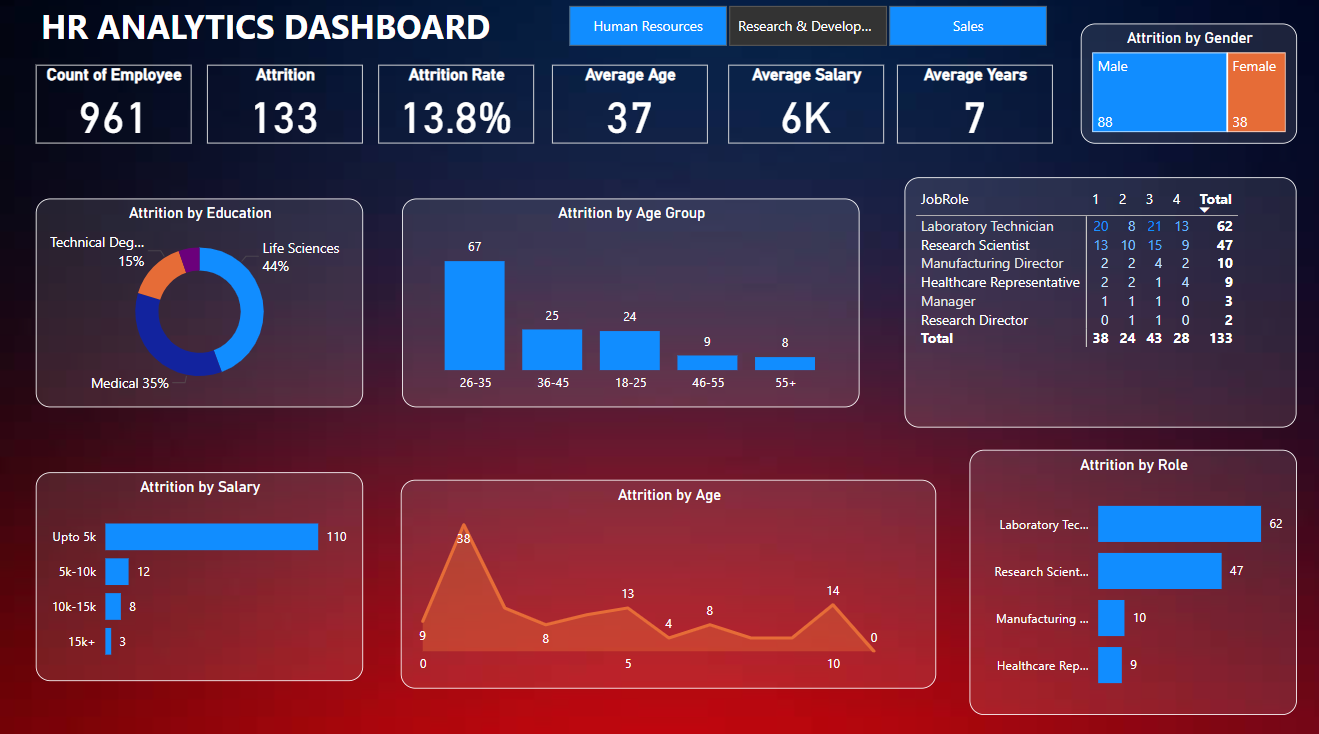

This screenshot's page, from the dashboard's own definition file:
{"tool":"powerbi","page":{"name":"Page 1","canvas":[1280,720],"ordinal":0},"visuals":[{"type":"card","title":"Count of Employee","fields":{"Values":["CountNonNull(HR_Analytics.EmpID)"]},"box":[37.4,71.1,150,75.7],"z":0},{"type":"card","title":"Attrition","fields":{"Values":["Sum(HR_Analytics.AttritionCount)"]},"box":[203.1,71.1,150,75.7],"z":1000},{"type":"card","title":"Attrition Rate","fields":{"Values":["HR_Analytics.AttritionRate"]},"box":[367.4,71.1,150,75.7],"z":2000},{"type":"card","title":"Average Age","fields":{"Values":["HR_Analytics.AverageAge"]},"box":[536,71.1,150,75.7],"z":3000},{"type":"card","title":"Average Salary","fields":{"Values":["HR_Analytics.AverageSalary"]},"box":[706,71.1,150,75.7],"z":4000},{"type":"card","title":"Average Years","fields":{"Values":["Avg(HR_Analytics.YearsAtCompany)"]},"box":[868.9,71.1,150,75.7],"z":5000},{"type":"donutChart","title":"Attrition by Education","fields":{"Category":["HR_Analytics.EducationField"],"Y":["Sum(HR_Analytics.AttritionCount)"]},"box":[37.4,199.7,315.7,201.4],"z":6000},{"type":"columnChart","title":"Attrition by Age Group","fields":{"Category":["HR_Analytics.AgeGroup"],"Y":["Sum(HR_Analytics.AttritionCount)"]},"box":[391.4,200,441.4,201.4],"z":7000},{"type":"pivotTable","title":"Job Satisfaction","fields":{"Rows":["HR_Analytics.JobRole"],"Columns":["HR_Analytics.JobSatisfaction"],"Values":["Sum(HR_Analytics.AttritionCount)"]},"box":[875.7,180,378.6,241.4],"z":8000},{"type":"barChart","title":"Attrition by Salary","fields":{"Category":["HR_Analytics.SalarySlab"],"Y":["Sum(HR_Analytics.AttritionCount)"]},"box":[37.1,464.3,315.7,201.4],"z":9000},{"type":"barChart","title":"Attrition by Role","fields":{"Y":["Sum(HR_Analytics.AttritionCount)"],"Category":["HR_Analytics.JobRole"]},"box":[938.6,442.9,315.7,255.7],"z":10000},{"type":"areaChart","title":"Attrition by Age","fields":{"Category":["HR_Analytics.YearsAtCompany"],"Y":["Sum(HR_Analytics.AttritionCount)"]},"box":[390,471.4,517.1,201.4],"z":11000},{"type":"treemap","title":"Attrition by Gender","fields":{"Group":["HR_Analytics.Gender"],"Values":["Sum(HR_Analytics.AttritionCount)"]},"box":[1045.7,31.4,208.6,115.7],"z":12000},{"type":"slicer","fields":{"Values":["HR_Analytics.Department"]},"box":[525.7,7.1,511.4,52.9],"z":13000},{"type":"textbox","box":[37.1,7.1,705.7,60],"z":13001}]}

Visuals, with their boxes in screenshot pixels (x1, y1, x2, y2), scaled from the page's 1280x720 canvas onto the 1319x734 screenshot:
"Count of Employee" card: 39/72/193/150
"Attrition" card: 209/72/364/150
"Attrition Rate" card: 379/72/533/150
"Average Age" card: 552/72/707/150
"Average Salary" card: 728/72/882/150
"Average Years" card: 895/72/1050/150
"Attrition by Education" donutChart: 39/204/364/409
"Attrition by Age Group" columnChart: 403/204/858/409
"Job Satisfaction" pivotTable: 902/184/1293/430
"Attrition by Salary" barChart: 38/473/364/679
"Attrition by Role" barChart: 967/452/1293/712
"Attrition by Age" areaChart: 402/481/935/686
"Attrition by Gender" treemap: 1078/32/1293/150
slicer - HR_Analytics.Department: 542/7/1069/61
textbox: 38/7/765/68
